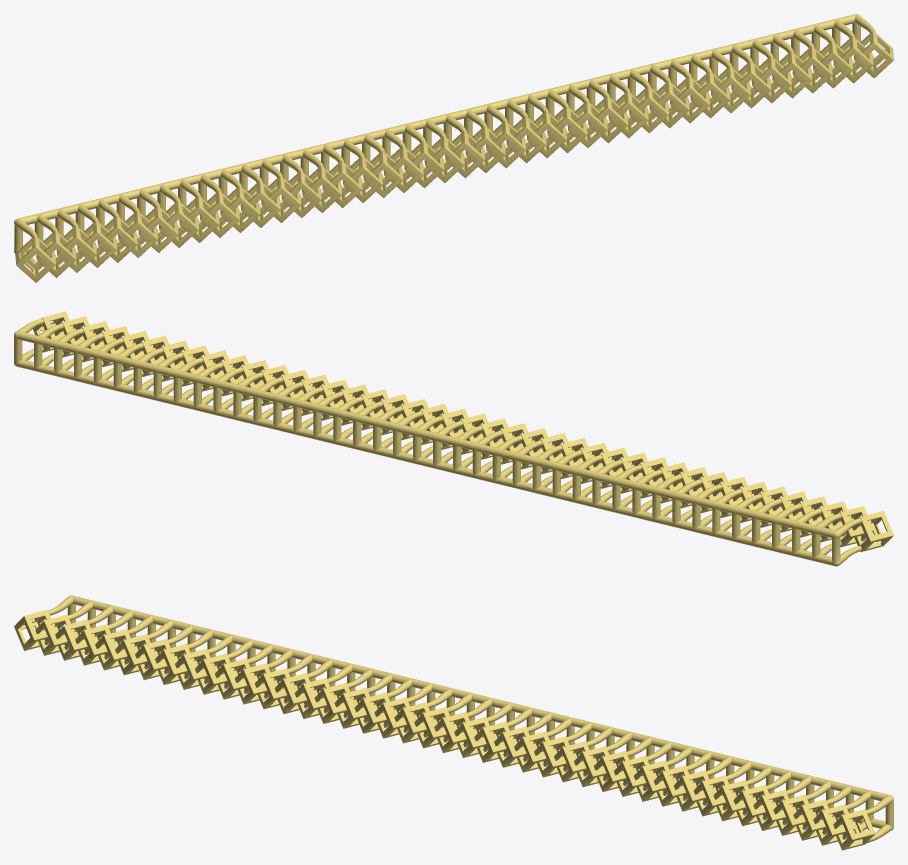
File: yzn5-136.glb
3 views of the same model, one above another, from view 1: azimuth 30°, elevation 25°; view 2: azimuth 150°, elevation 25°; view 3: azimuth 330°, elevation 25° (orthographic). The views are drawn at different scales.
Parts seen in each view (by area): view 1: Renderer Node; view 2: Renderer Node; view 3: Renderer Node.
Part boxes in pixels (<box>): Renderer Node: <box>14,14,893,282</box>; Renderer Node: <box>14,311,893,566</box>; Renderer Node: <box>14,595,893,850</box>.
Bounding box in the file's own units: 179 × 6.99 × 14.06.
